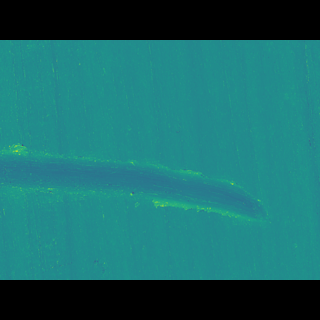Loch: (0, 146, 275, 210)
